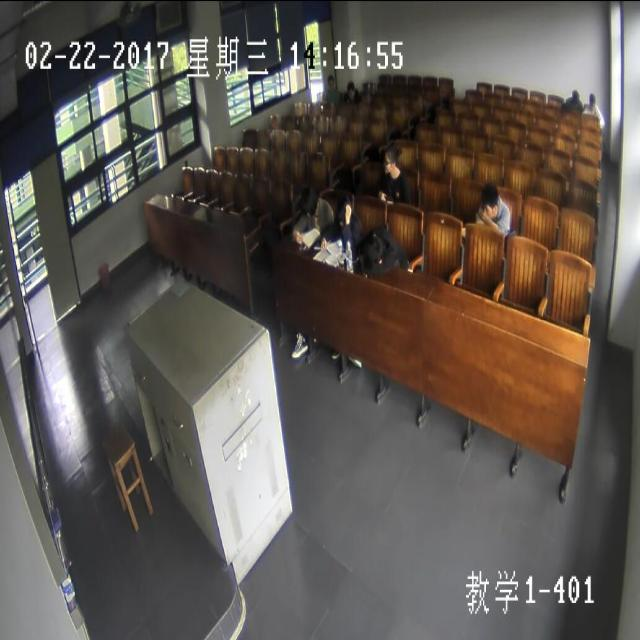person: (361, 229, 386, 270), (478, 180, 500, 222), (299, 183, 320, 220), (334, 193, 355, 230), (381, 143, 401, 174), (346, 78, 356, 100), (570, 86, 579, 105), (587, 90, 596, 109), (326, 73, 335, 89)
